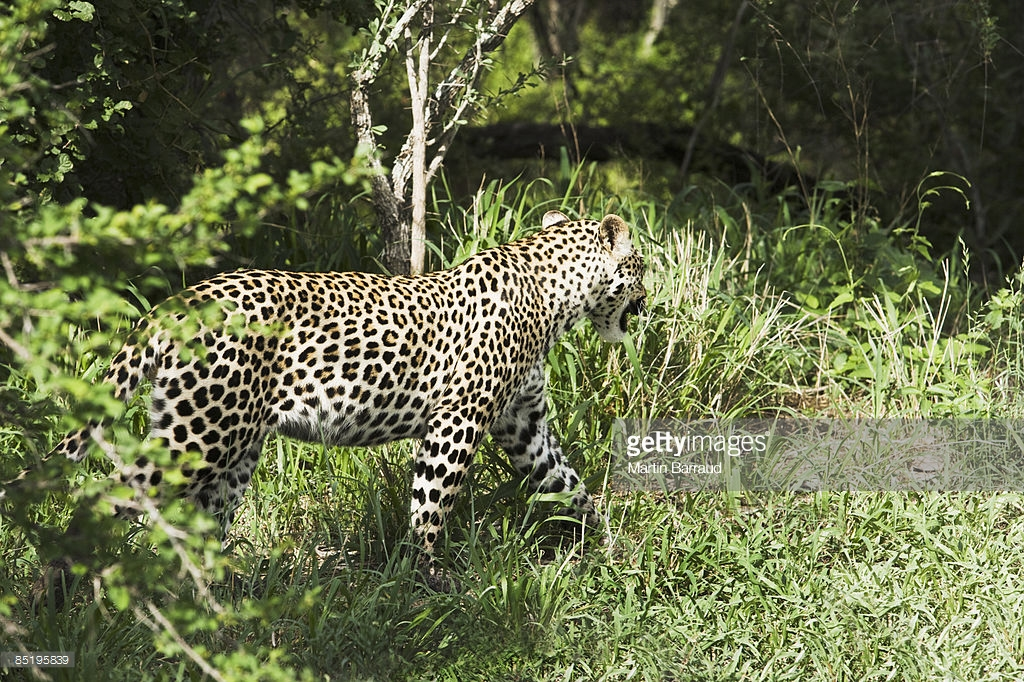leopard: (108, 210, 656, 560)
